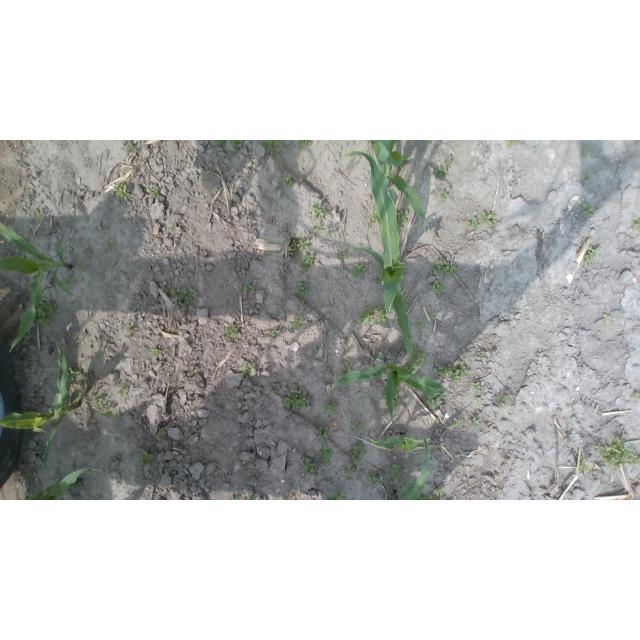Maize: (344, 150, 415, 369), (1, 341, 84, 471), (0, 223, 76, 354), (330, 352, 448, 425), (365, 140, 427, 230), (22, 466, 103, 500), (393, 433, 433, 499), (370, 433, 431, 451)
Weeds: (589, 438, 639, 470), (88, 389, 124, 419), (433, 362, 471, 385), (341, 440, 363, 474), (32, 297, 53, 327), (171, 286, 198, 309), (360, 304, 391, 324), (282, 390, 311, 411), (433, 152, 454, 181), (316, 439, 335, 468), (286, 236, 311, 256), (350, 262, 369, 280), (299, 253, 317, 272), (113, 181, 131, 200), (139, 451, 159, 468), (437, 260, 458, 276), (303, 454, 319, 475), (238, 363, 260, 377), (313, 223, 334, 237), (310, 203, 326, 221), (411, 353, 427, 371), (119, 375, 132, 397), (397, 207, 410, 228), (367, 213, 381, 232), (470, 382, 482, 404), (585, 247, 601, 263), (494, 395, 512, 409), (224, 321, 238, 339), (483, 211, 499, 226), (324, 404, 340, 419), (581, 202, 595, 219), (314, 425, 332, 437), (263, 141, 282, 152), (101, 240, 117, 253), (290, 317, 304, 331), (368, 471, 381, 486), (388, 464, 400, 480), (431, 280, 443, 296), (425, 489, 446, 498), (468, 215, 481, 229), (583, 461, 594, 477), (283, 171, 294, 187), (296, 282, 309, 295), (124, 142, 138, 154), (417, 319, 430, 331), (470, 417, 482, 428), (631, 215, 640, 229), (601, 313, 612, 324), (33, 210, 44, 221), (506, 140, 521, 148), (126, 321, 135, 334), (451, 419, 461, 430), (152, 347, 164, 356), (352, 422, 365, 430), (270, 329, 283, 337), (151, 189, 160, 200), (343, 362, 352, 373), (158, 427, 167, 438), (429, 309, 438, 320), (631, 391, 640, 402), (298, 141, 311, 148), (188, 367, 198, 376), (235, 140, 246, 148), (282, 223, 291, 232), (584, 175, 593, 184), (440, 193, 449, 202), (460, 351, 469, 360), (477, 351, 488, 358), (582, 149, 590, 158), (319, 370, 329, 377), (571, 402, 577, 413), (217, 141, 227, 147), (243, 283, 250, 290)
